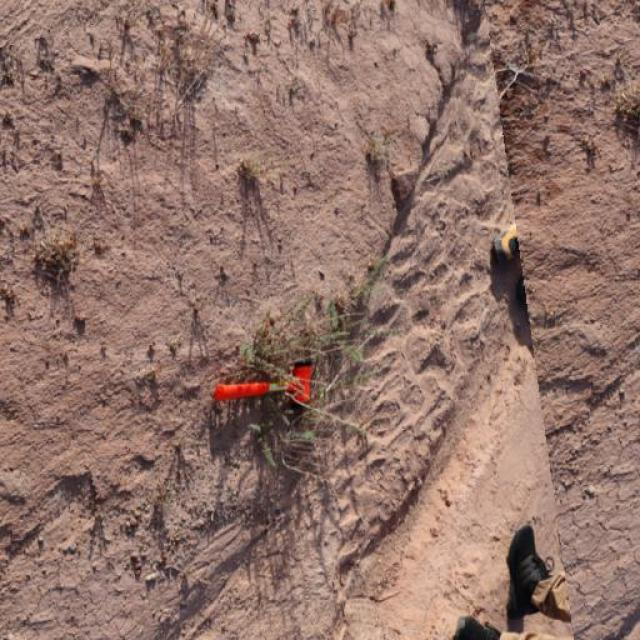mallet: (211, 359, 315, 405)
